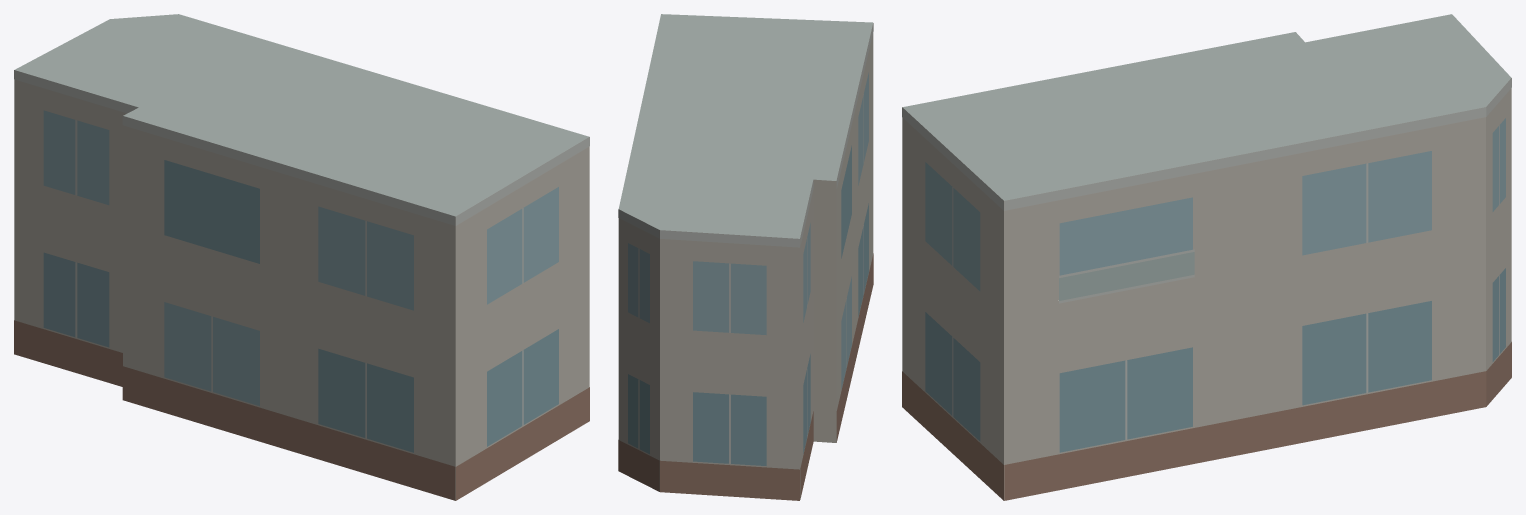
Rendered from survey-upis-32506645.glb.
3 views of the same model, side by side, from view 1: azimuth 30°, elevation 25°; view 2: azimuth 150°, elevation 25°; view 3: azimuth 270°, elevation 25° (orthographic). The views are drawn at different scales.
Visible parts, largest first — view 1: survey-upis-32506645.tmp; view 2: survey-upis-32506645.tmp; view 3: survey-upis-32506645.tmp.
Boxes of the visible parts, x1,y1,x2,y2 form: survey-upis-32506645.tmp: (14,14,589,500); survey-upis-32506645.tmp: (618,14,873,500); survey-upis-32506645.tmp: (902,14,1511,500).
Size of the model in its own units: 9.77 by 7.3 by 13.45.
